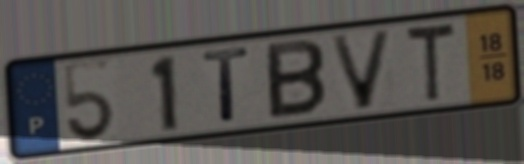1: (147, 51, 181, 135)
5: (60, 55, 119, 145)
B: (263, 37, 330, 123)
T: (402, 19, 459, 106), (199, 44, 253, 126)
V: (325, 27, 397, 113)
